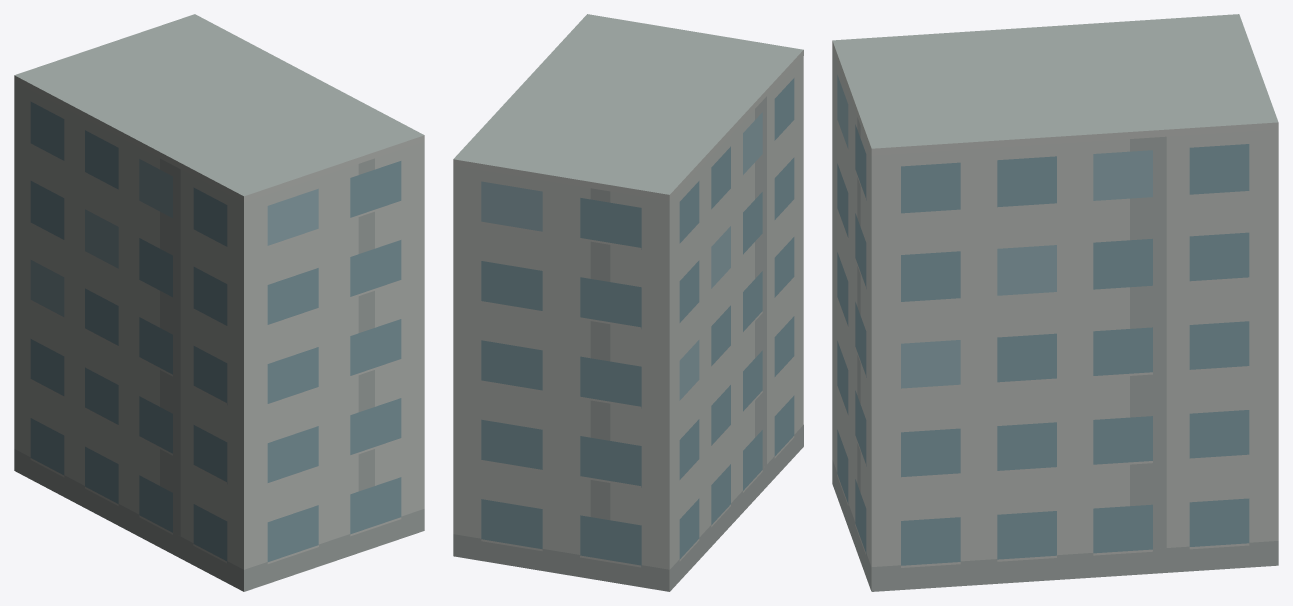
File: residential-d56a3886-f3e8-4fc2-a7a8-a4bf6b9ad528.glb
3 renders of one model, left to right at view 1: azimuth 30°, elevation 25°; view 2: azimuth 150°, elevation 25°; view 3: azimuth 270°, elevation 25°, orthographic. The views are drawn at different scales.
Visible parts, largest first — view 1: residential-d56a3886-f3e8-4fc2-a7a8-a4bf6b9ad528.tmp; view 2: residential-d56a3886-f3e8-4fc2-a7a8-a4bf6b9ad528.tmp; view 3: residential-d56a3886-f3e8-4fc2-a7a8-a4bf6b9ad528.tmp.
Part boxes in pixels (x1,y1,x2,y2): residential-d56a3886-f3e8-4fc2-a7a8-a4bf6b9ad528.tmp: (14, 14, 424, 591); residential-d56a3886-f3e8-4fc2-a7a8-a4bf6b9ad528.tmp: (453, 14, 803, 591); residential-d56a3886-f3e8-4fc2-a7a8-a4bf6b9ad528.tmp: (832, 14, 1278, 591).
Bounding box in the file's own units: 9.95 × 15.25 × 13.93.
